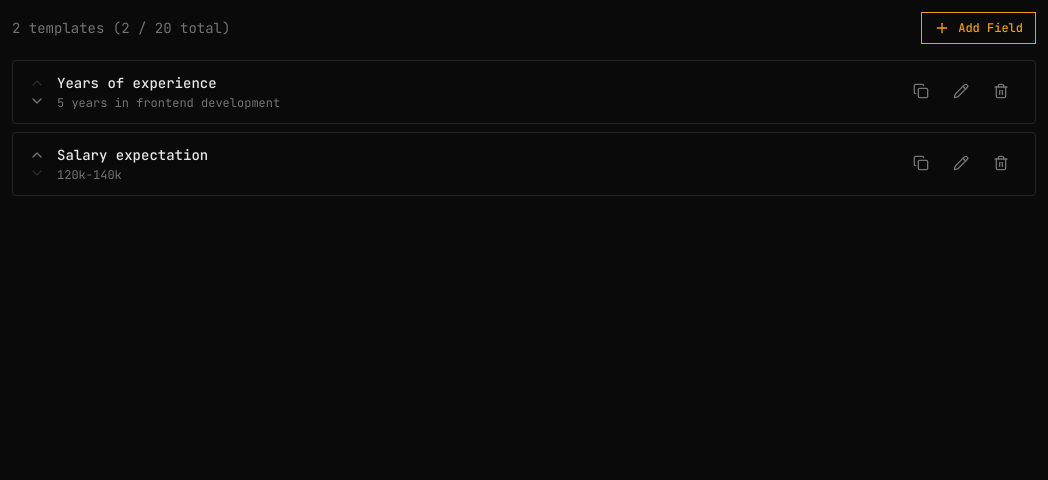
Scenario: TemplateList › shows add form when Add Field clicked
The image size is (1048, 480).
Click the button "Add Field": click(979, 28) x1=921 y1=12 x2=1036 y2=44
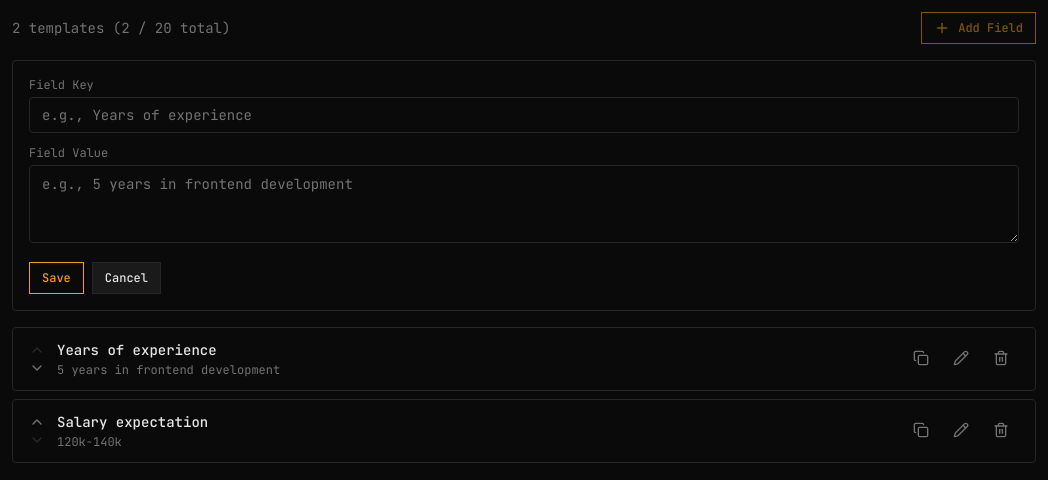
Now the field labelled "Field Key" is shown, box x1=29 y1=97 x2=1019 y2=133
Now the text box labelled "Field Value" is shown, box x1=29 y1=165 x2=1019 y2=243
